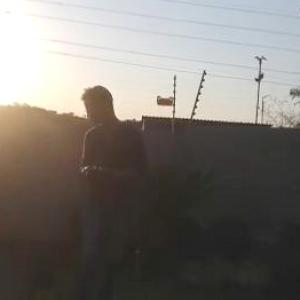follow: (75, 79, 157, 299)
